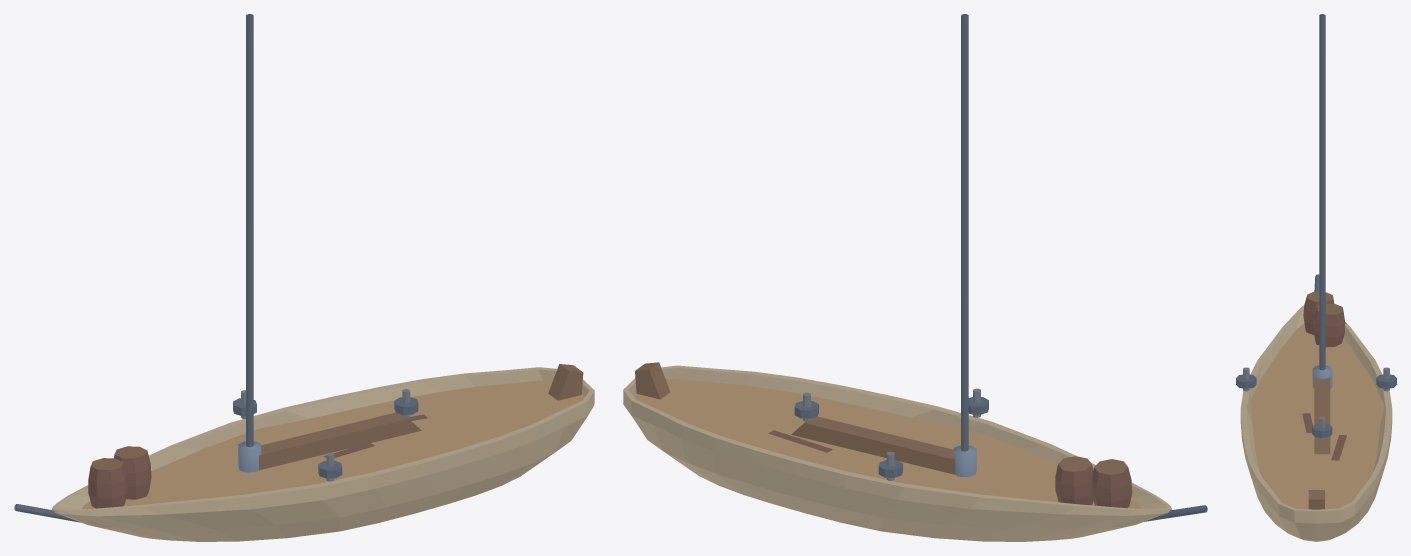
Rendered from mainship.glb.
3 views of the same model, side by side, from view 1: azimuth 30°, elevation 25°; view 2: azimuth 150°, elevation 25°; view 3: azimuth 270°, elevation 25° (orthographic). The views are drawn at different scales.
Parts seen in each view (by area): view 1: Cylinder.034, Cube.026, Cylinder.029, Cylinder.075, Cylinder.077, Cube.048, BezierCurve.003; view 2: Cylinder.034, Cube.026, Cylinder.029, Cylinder.075, Cylinder.077, Cube.048, BezierCurve.003; view 3: Cylinder.034, Cylinder.029, Cube.026, Cylinder.077, BezierCurve.003, Cylinder.075, Cube.048, Cylinder.033, Cylinder.031, Plane.029.
Part boxes in pixels (x1,y1,x2,y2): Cylinder.034: (52, 367, 594, 541); Cube.026: (259, 412, 421, 470); Cylinder.029: (246, 14, 253, 447); Cylinder.075: (88, 458, 127, 508); Cylinder.077: (114, 446, 151, 499); Cube.048: (548, 364, 583, 400); BezierCurve.003: (233, 390, 342, 481); Cylinder.034: (623, 365, 1171, 541); Cube.026: (791, 416, 955, 474); Cylinder.029: (961, 14, 968, 451); Cylinder.075: (1092, 459, 1132, 508); Cylinder.077: (1055, 456, 1093, 505); Cube.048: (635, 362, 670, 399); BezierCurve.003: (878, 388, 988, 480); Cylinder.034: (1240, 305, 1392, 541); Cylinder.029: (1319, 14, 1325, 370); Cube.026: (1314, 377, 1330, 454); Cylinder.077: (1313, 303, 1345, 347); BezierCurve.003: (1236, 367, 1396, 391); Cylinder.075: (1303, 291, 1334, 334); Cube.048: (1308, 490, 1324, 509); Cylinder.033: (1312, 365, 1332, 388); Cylinder.031: (1312, 423, 1332, 437); Plane.029: (1331, 435, 1346, 460).
Bounding box in the file's own units: 1.44 × 1.24 × 0.4299.
